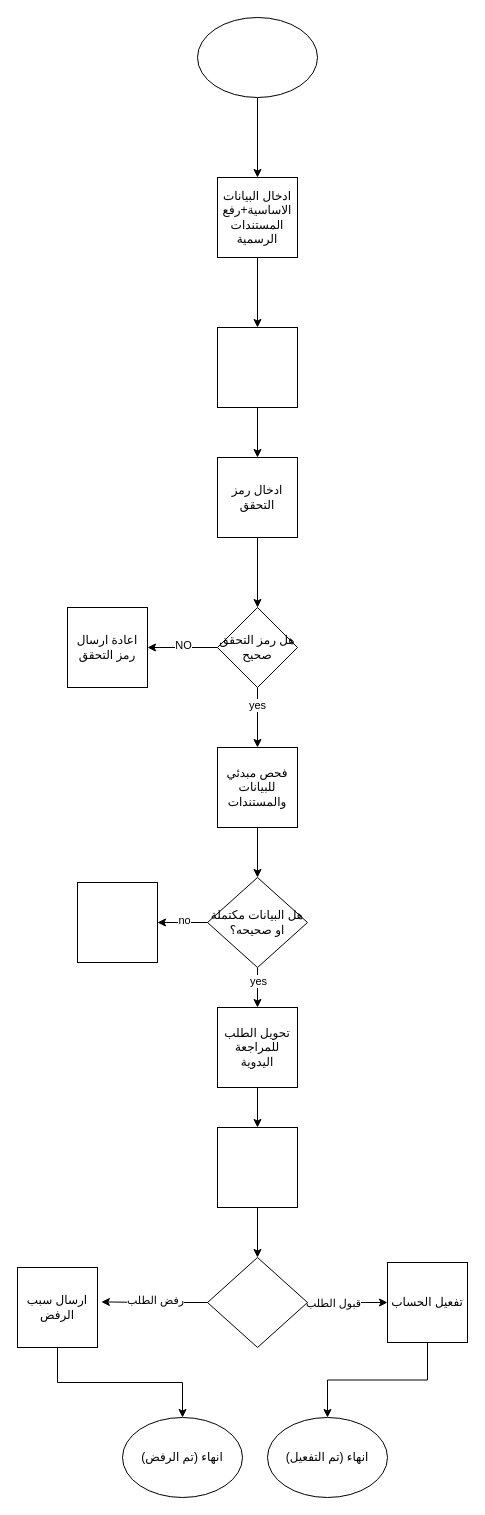
Some shapes in this 485 by 1515 pixel diagram are drawn without their labels. The shapes that lost their labels are listed below. From the top down, each one's centre as x and y in pixels, then its label:
At pixel 257 57: "انشاء حساب جمعية".
At pixel 257 367: "ارسال رمز تحقق".
At pixel 117 922: "طلب معلومات ومستندات اضافية".
At pixel 257 1167: "اجراء التحقق اليدوي (الاتصال ,مطابقة المستندات,التحقق من المقر)".
At pixel 257 1302: "هل الجمعية مثبتة وحقيقية؟".
